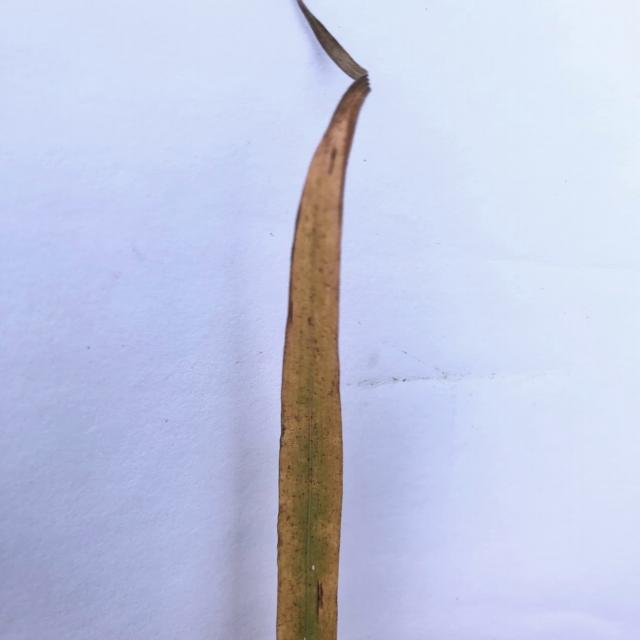tungro: (270, 78, 375, 640)
